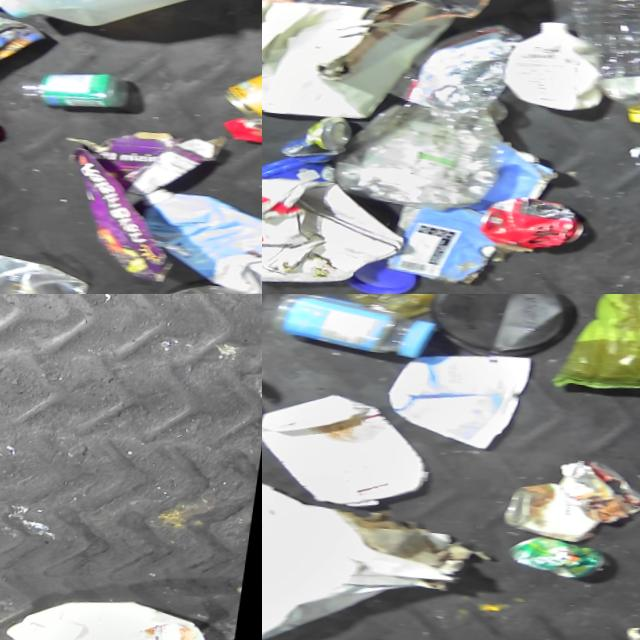can: (494, 478, 611, 549), (483, 194, 591, 253), (505, 531, 615, 585), (276, 109, 357, 162), (220, 51, 262, 128)
milk_jug: (262, 381, 444, 518), (131, 184, 262, 294), (503, 16, 615, 115), (5, 588, 213, 640), (0, 0, 244, 42)
non_white_jug: (396, 136, 562, 293)
plastic_bottle: (551, 0, 640, 128), (0, 246, 97, 294)
